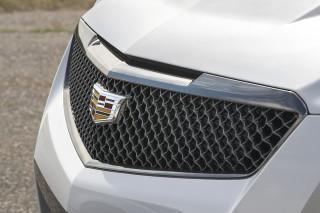cadillac: (87, 78, 130, 126)
